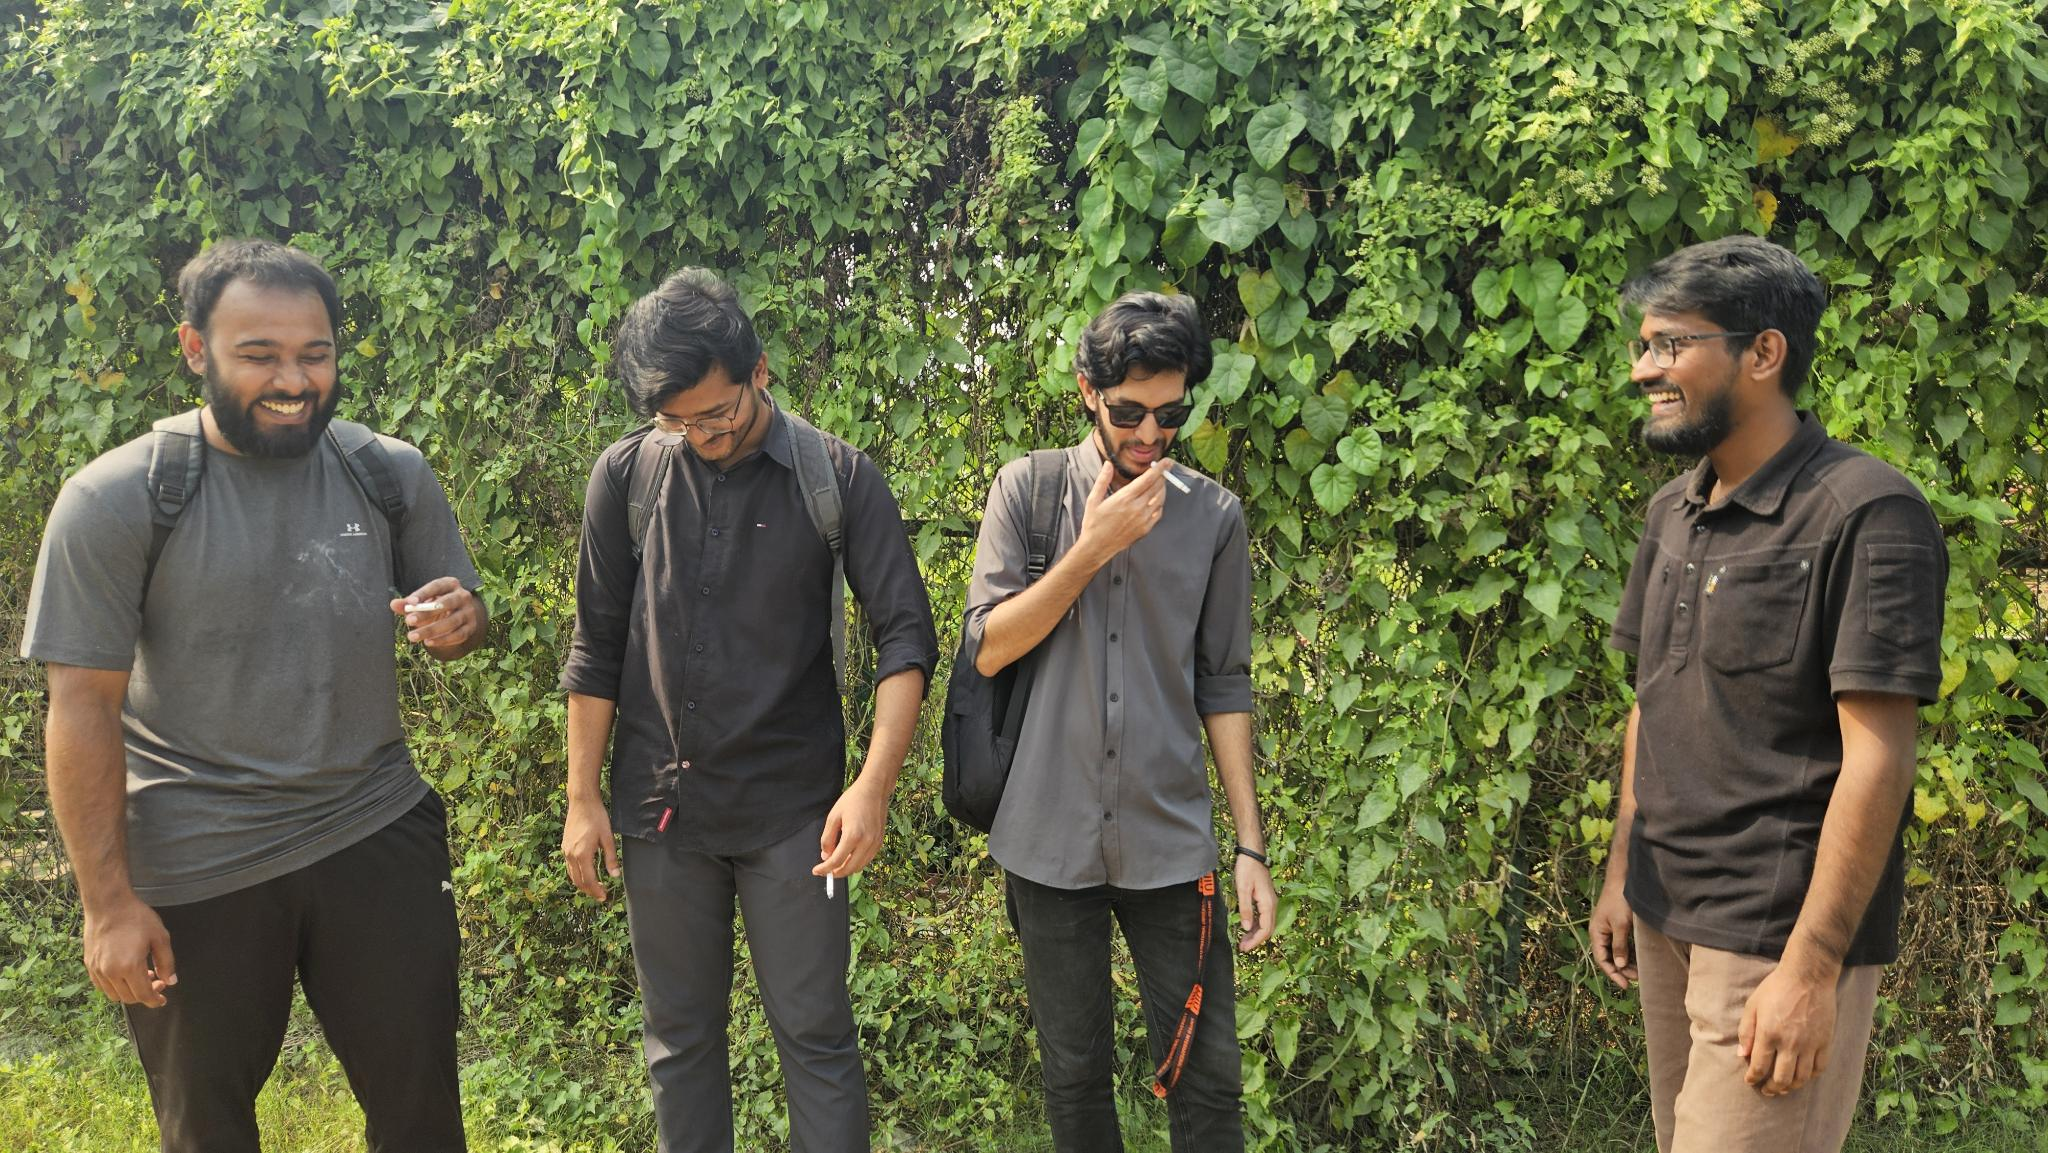cigarette: (1159, 467, 1191, 496), (404, 600, 444, 613), (824, 869, 836, 901)
nonSmoker: (1588, 233, 1951, 1153)
smoker: (18, 239, 489, 1153), (560, 271, 940, 1153), (940, 290, 1279, 1153)
